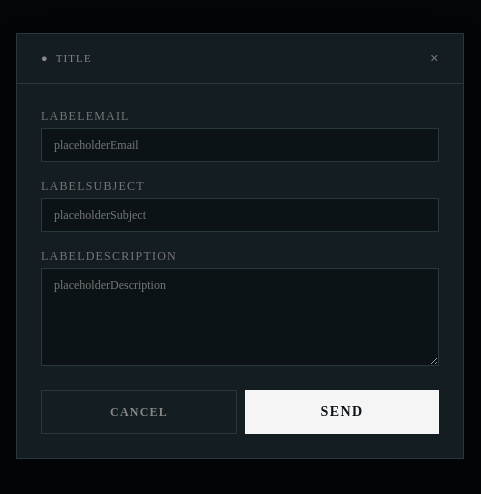
ContactFormModal › shows the right error after a server detail
The width and height of the screenshot is (481, 494).
In the field with placeholder "placeholderEmail": [240, 145] box [41,128,439,162], type "learner@example.com"
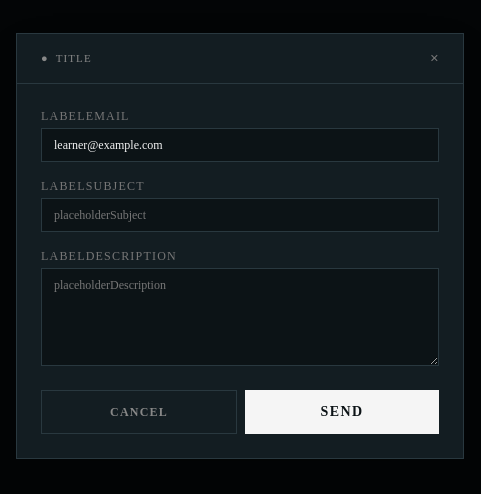
In the field with placeholder "placeholderSubject": [240, 215] box [41,198,439,232], type "Question"
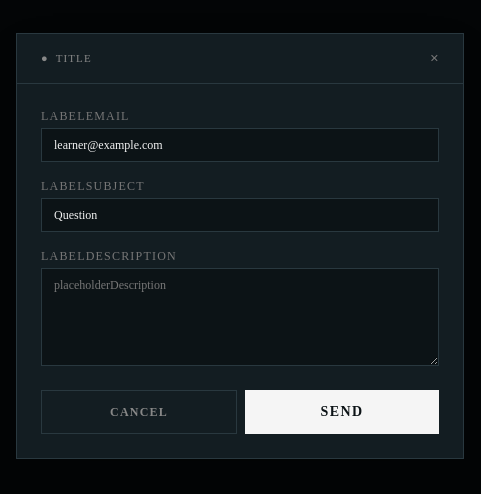
In the text box with placeholder "placeholderDescription": [240, 317] box [41,268,439,366], type "Please help me."
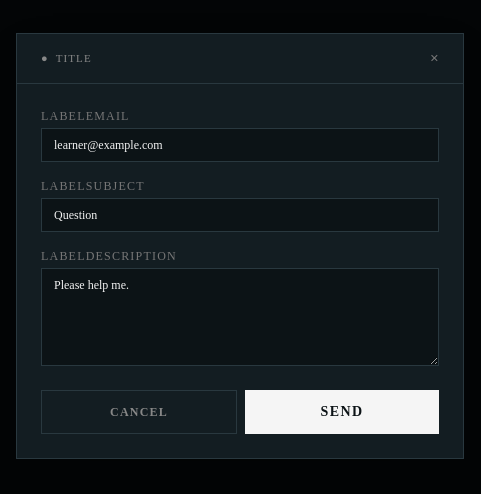
Click the button "send": [342, 412] box [245,390,439,434]
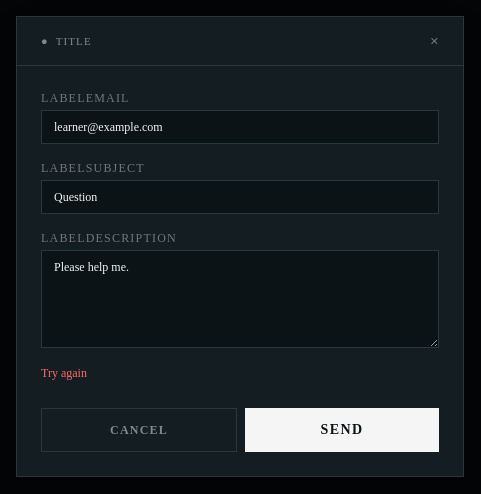
Check: the button "send" is enabled, box [245,408,439,452]
Check: the text "Try again" is shown, box [41,366,87,380]
